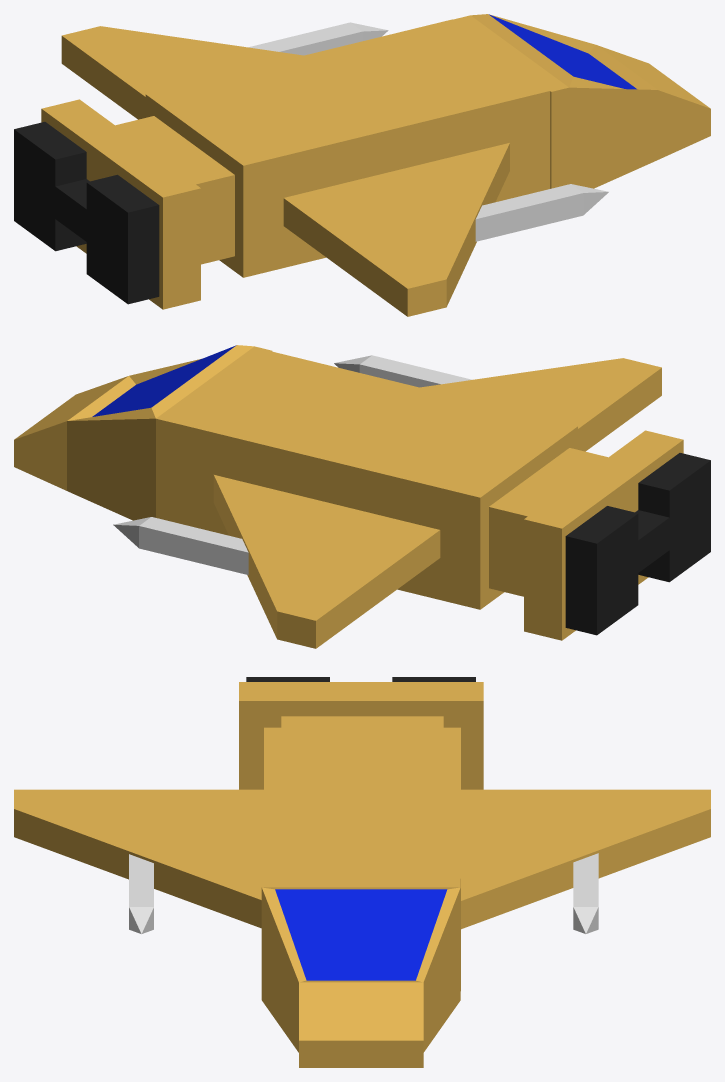
The model's file is Ship_modular.fbx.
3 renders of one model, top to bottom at view 1: azimuth 30°, elevation 25°; view 2: azimuth 150°, elevation 25°; view 3: azimuth 270°, elevation 25°, orthographic.
Visible parts, largest first — view 1: ModuleCorpstransporteur, ModuleCorps, ModuleCoc, ModulePropulseur2, ModulePropulseur3, Missile, ModulePropulseur1; view 2: ModuleCorps, ModuleCorpstransporteur, ModuleCoc, ModulePropulseur2, ModulePropulseur3, Missile, ModulePropulseur1; view 3: ModuleCorps, ModuleCorpstransporteur, ModuleCoc, ModulePropulseur2, Missile, ModulePropulseur3.
Boxes of the visible parts, x1,y1,x2,y2 form: ModuleCorpstransporteur: (63, 20, 550, 316); ModuleCorps: (61, 19, 548, 315); ModuleCoc: (453, 14, 710, 188); ModulePropulseur2: (14, 99, 200, 309); ModulePropulseur3: (14, 121, 159, 304); Missile: (248, 22, 608, 241); ModulePropulseur1: (21, 162, 118, 265); ModuleCorps: (173, 352, 660, 648); ModuleCorpstransporteur: (176, 351, 661, 647); ModuleCoc: (14, 345, 272, 521); ModulePropulseur2: (524, 430, 710, 640); ModulePropulseur3: (565, 453, 710, 635); Missile: (113, 355, 472, 574); ModulePropulseur1: (604, 494, 701, 578); ModuleCorps: (16, 716, 710, 990); ModuleCorpstransporteur: (14, 716, 708, 928); ModuleCoc: (261, 878, 460, 1067); ModulePropulseur2: (239, 682, 483, 789); Missile: (129, 853, 598, 933); ModulePropulseur3: (246, 677, 475, 681).
Bounding box in the file's own units: 1137 × 206 × 1119.
